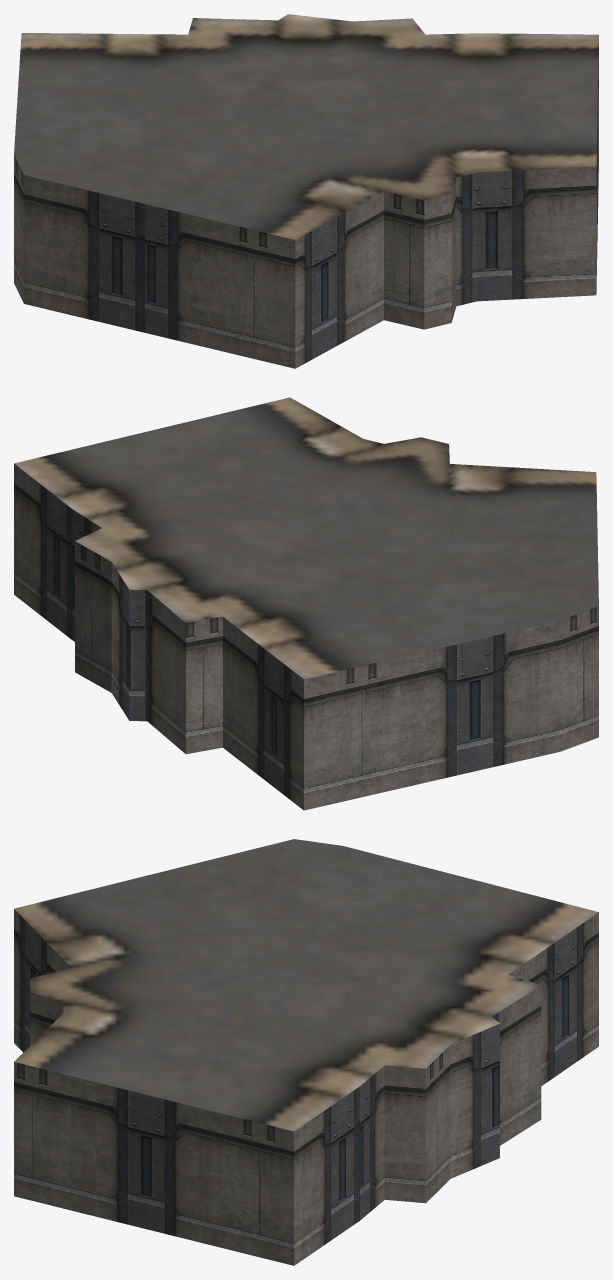
The model's file is building_heavy_52.glb.
3 views of the same model, one above another, from view 1: azimuth 30°, elevation 25°; view 2: azimuth 150°, elevation 25°; view 3: azimuth 270°, elevation 25° (orthographic). The views are drawn at different scales.
Parts seen in each view (by area): view 1: buildings/saxarba/building_heavy/building_heavy_52; view 2: buildings/saxarba/building_heavy/building_heavy_52; view 3: buildings/saxarba/building_heavy/building_heavy_52.
Part boxes in pixels (left/top/right/bottom): buildings/saxarba/building_heavy/building_heavy_52: left=14, top=14, right=598, bottom=368; buildings/saxarba/building_heavy/building_heavy_52: left=14, top=397, right=598, bottom=810; buildings/saxarba/building_heavy/building_heavy_52: left=14, top=839, right=598, bottom=1265.
Bounding box in the file's own units: 84 × 18 × 71.
